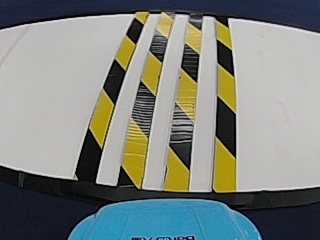bump: (76, 13, 241, 185)
